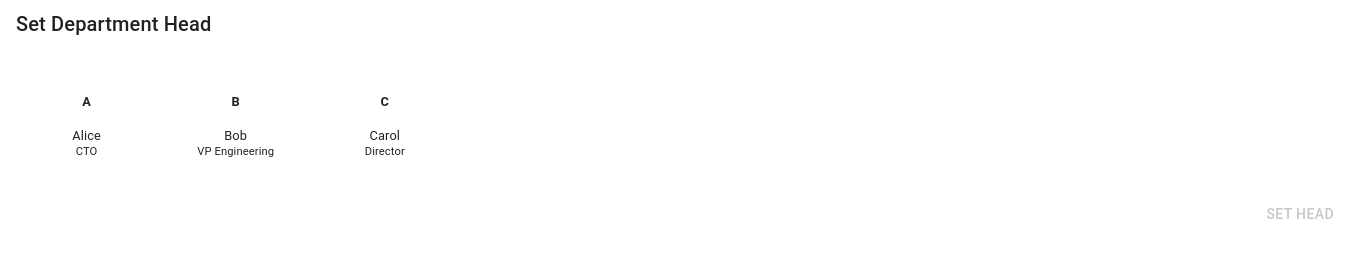
Test: UpdateDepartmentHead Component › shows error message when updateDepartmentHead fails
Click the button "A Alice CTO" at x=87, y=126, box [72,94,101,158]
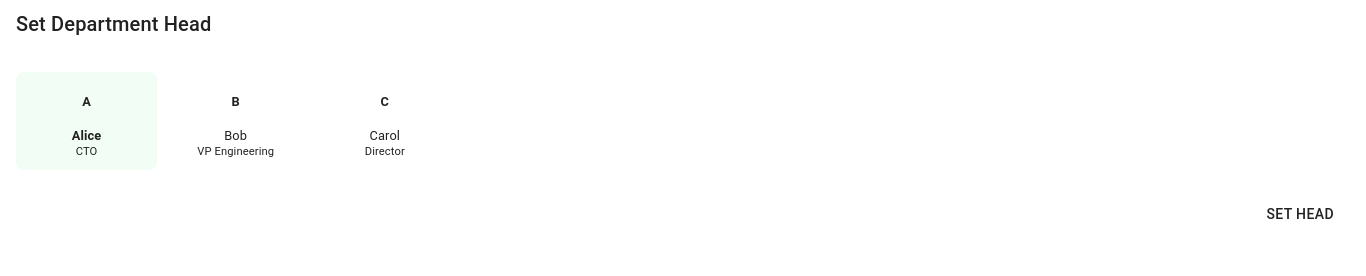
Click the button "Set Head" at x=1300, y=214, box [1250,194,1350,235]
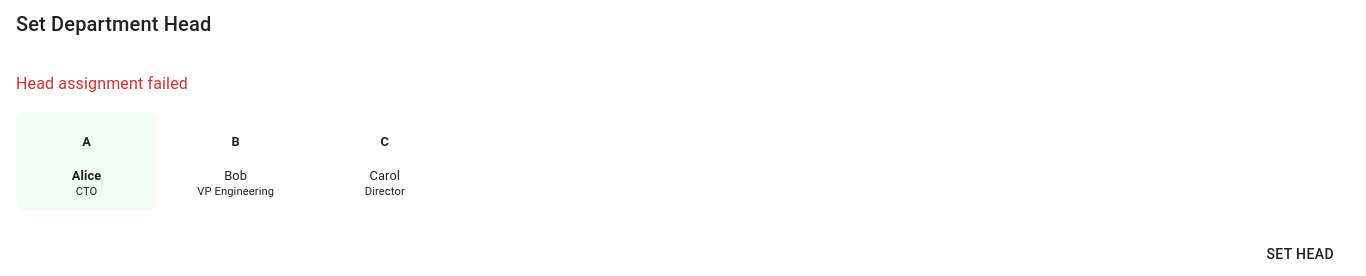
expect the text "Head assignment failed" is shown: met, box [16,74,188,93]
